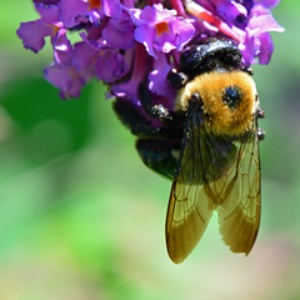bee: (108, 35, 274, 274)
